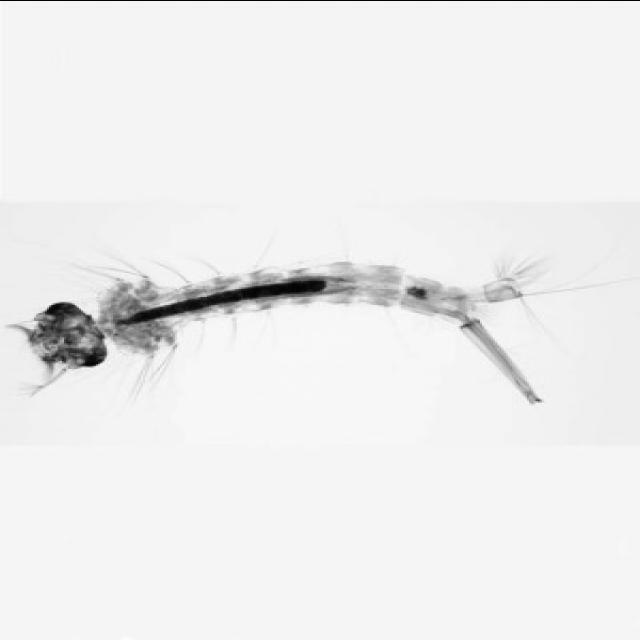larvas: (36, 252, 546, 398)
